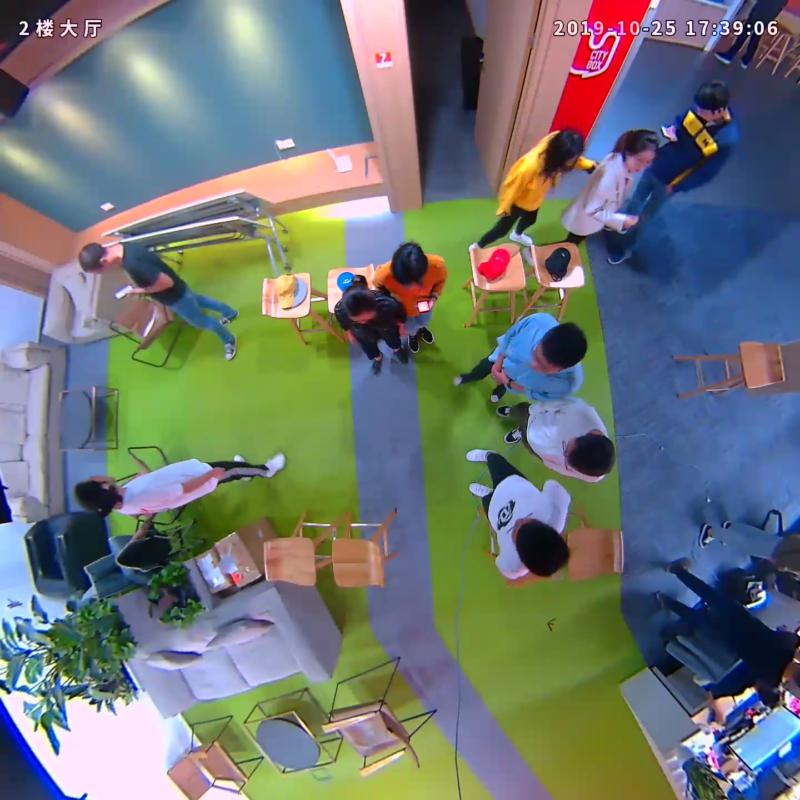head: (511, 516, 569, 579), (529, 322, 589, 374), (563, 434, 616, 479), (75, 475, 118, 515), (623, 129, 659, 175), (389, 242, 427, 284), (693, 79, 729, 123), (341, 282, 376, 325), (552, 129, 584, 170), (78, 242, 113, 277)
